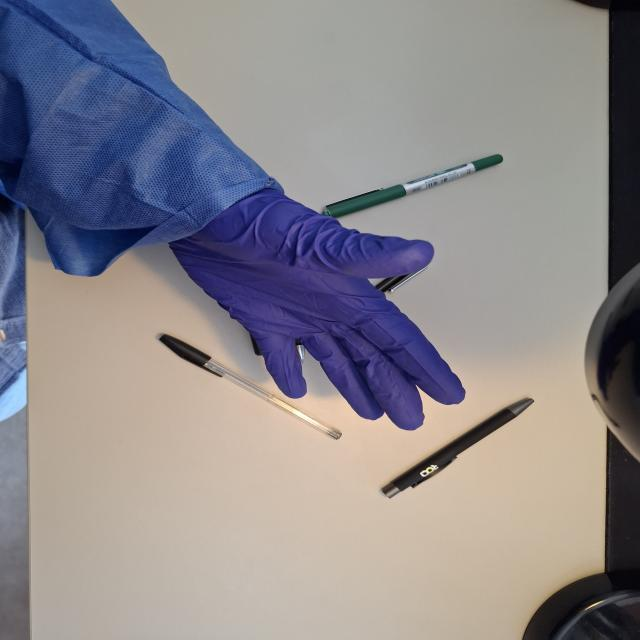glove_on: (163, 182, 469, 433)
